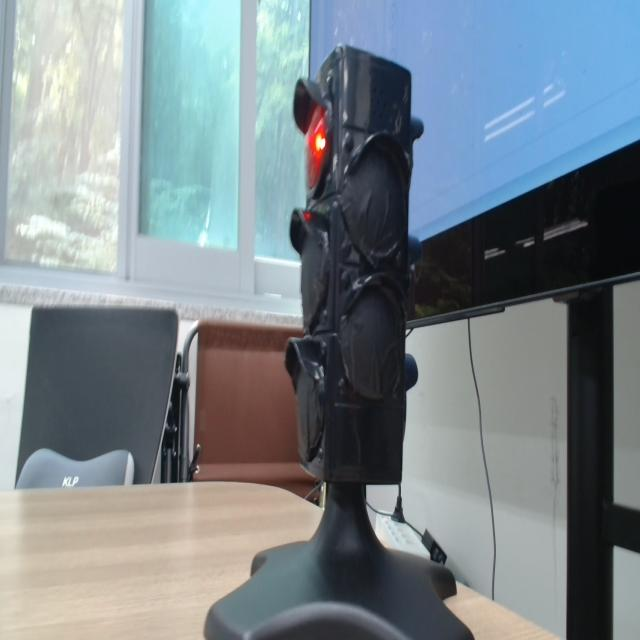red_light: (307, 105, 328, 190)
